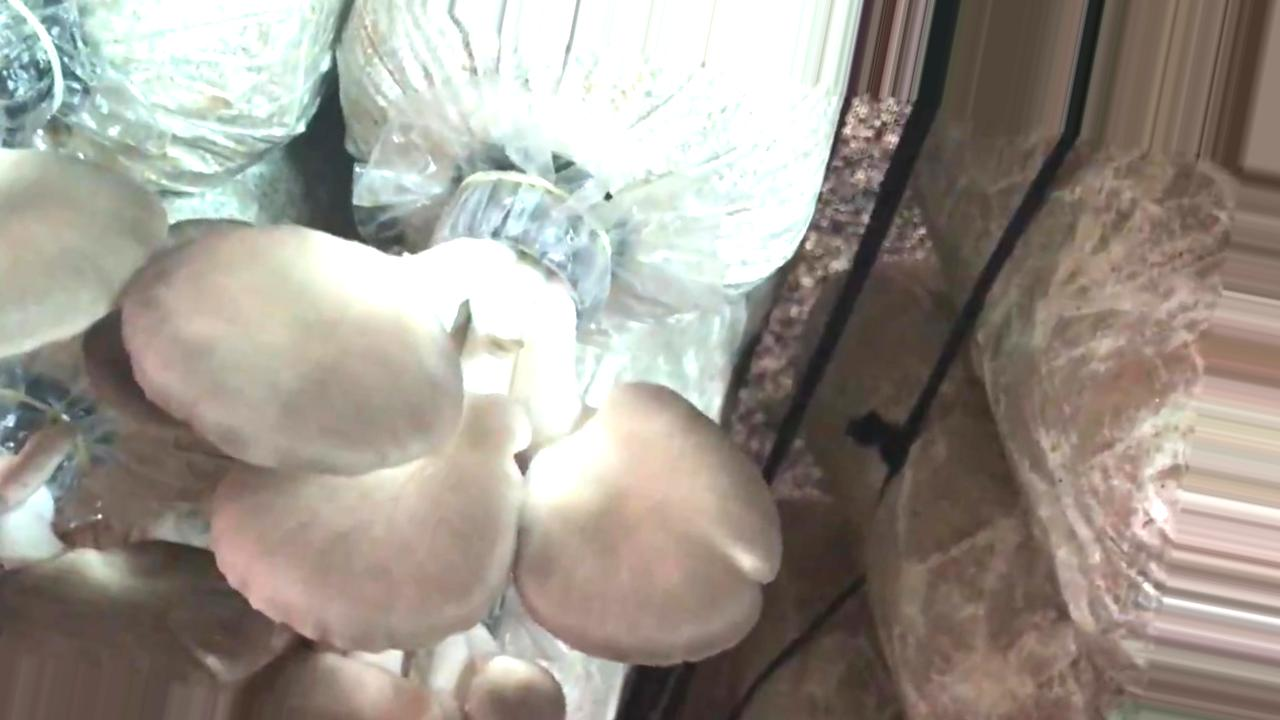nam: (123, 182, 784, 652), (1, 368, 286, 720), (1, 6, 166, 359), (233, 627, 568, 720)
